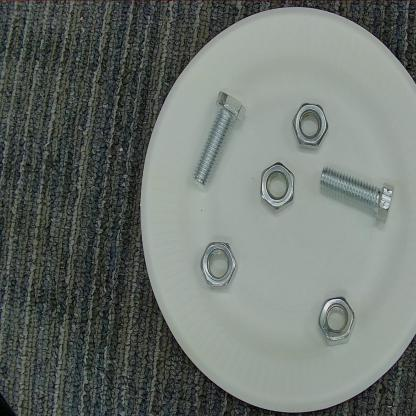FOD: (187, 81, 250, 201), (313, 160, 401, 238), (195, 236, 242, 295), (256, 155, 300, 214), (318, 292, 359, 352), (290, 100, 332, 153)
